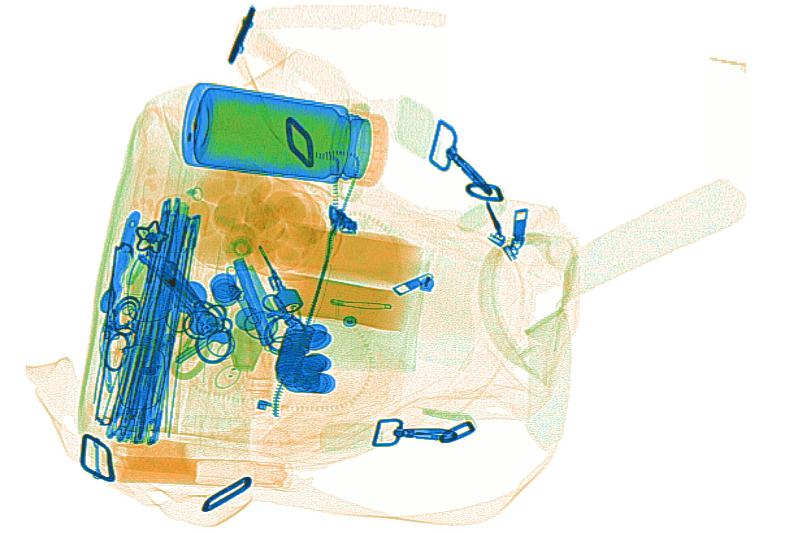knife: (231, 255, 277, 348), (107, 208, 141, 302)
